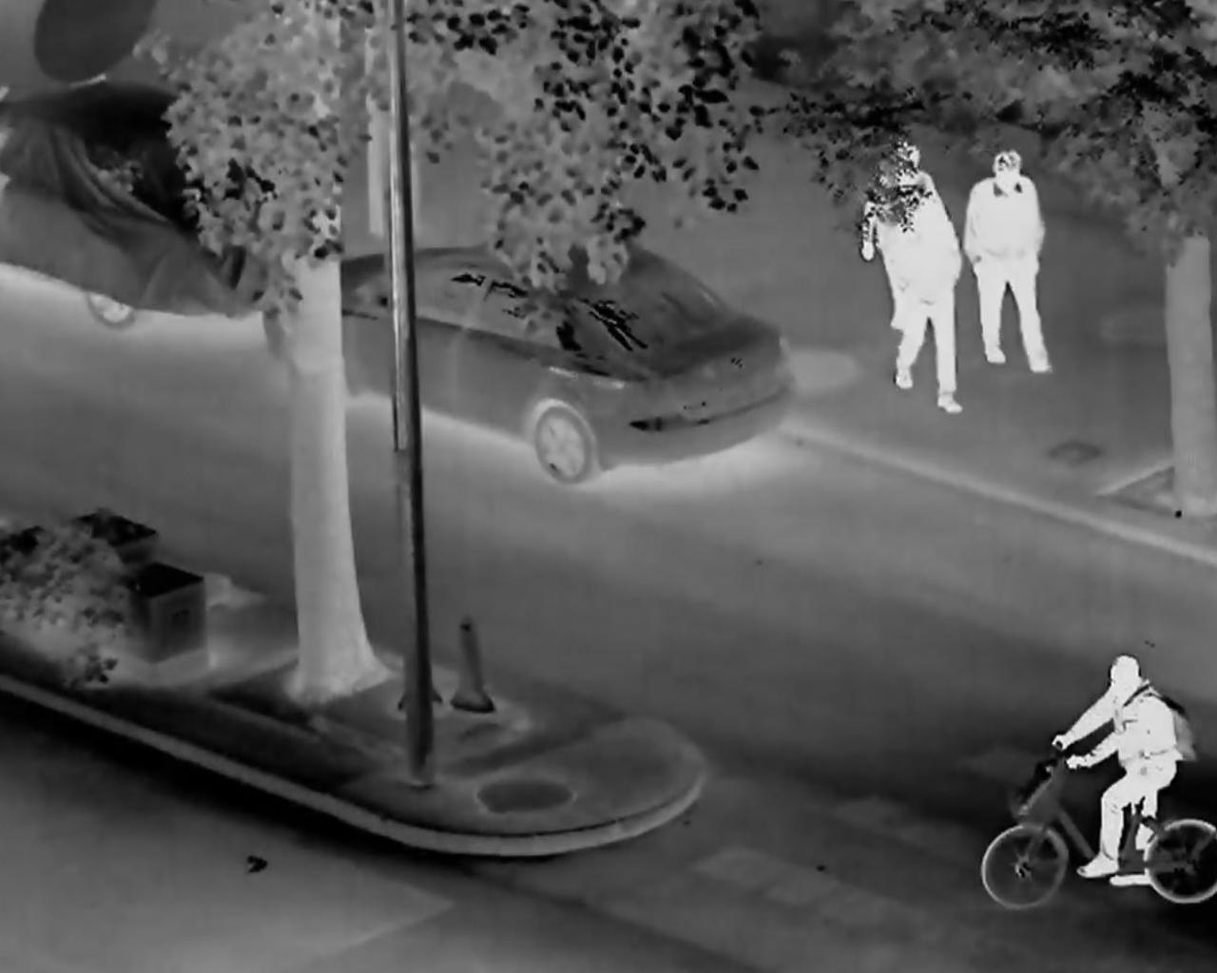person: (1053, 655, 1178, 887), (963, 149, 1050, 372), (859, 141, 941, 337), (896, 182, 963, 413)
